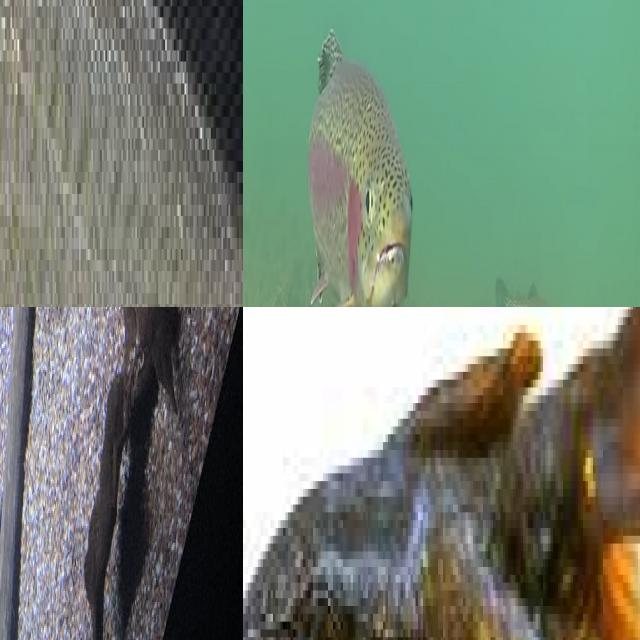fish: (243, 307, 640, 640), (0, 0, 243, 307), (551, 0, 640, 307)
